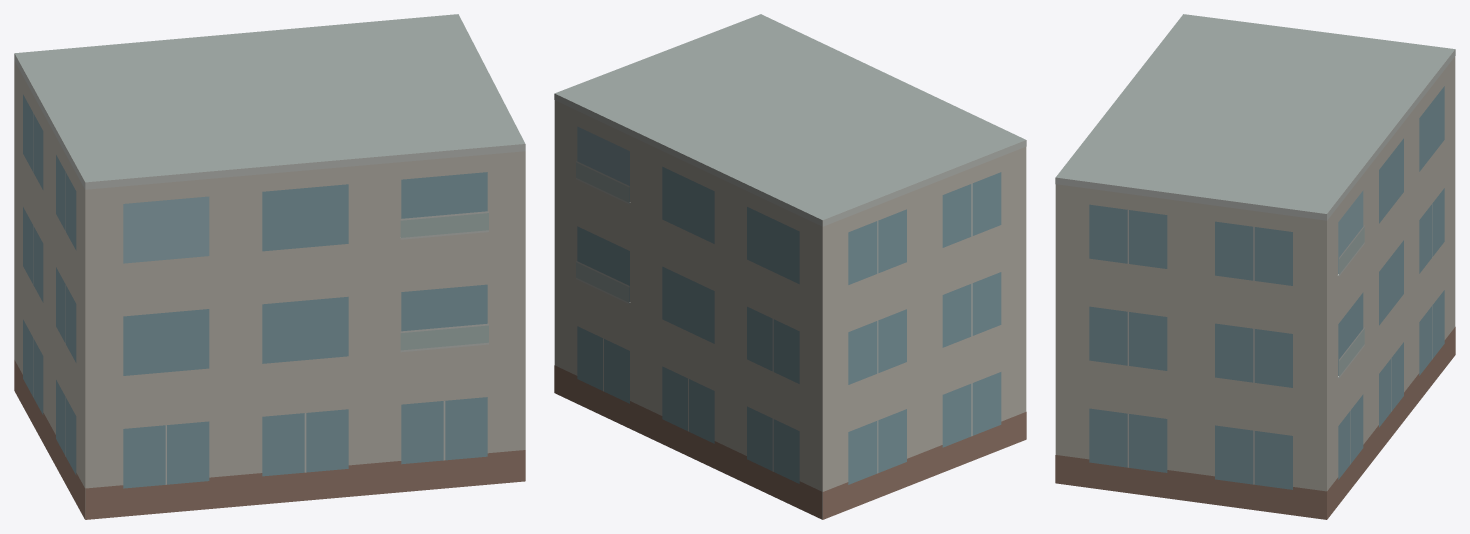
The model's file is survey-upis-32742320.glb.
3 renders of one model, left to right at view 1: azimuth 30°, elevation 25°; view 2: azimuth 150°, elevation 25°; view 3: azimuth 270°, elevation 25°, orthographic. The views are drawn at different scales.
Visible parts, largest first — view 1: survey-upis-32742320.tmp; view 2: survey-upis-32742320.tmp; view 3: survey-upis-32742320.tmp.
Boxes of the visible parts, box(x1,y1,x2,y2) form: survey-upis-32742320.tmp: box(14, 14, 525, 519); survey-upis-32742320.tmp: box(554, 14, 1026, 519); survey-upis-32742320.tmp: box(1055, 14, 1455, 519).
Bounding box in the file's own units: 15.73 × 11.2 × 13.29.
